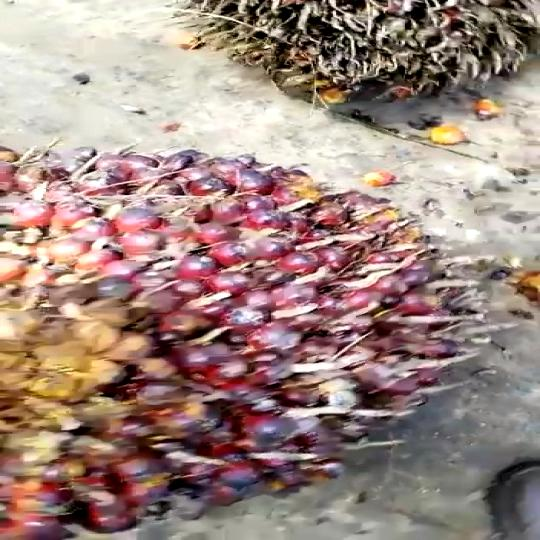masak: (0, 139, 494, 540)
